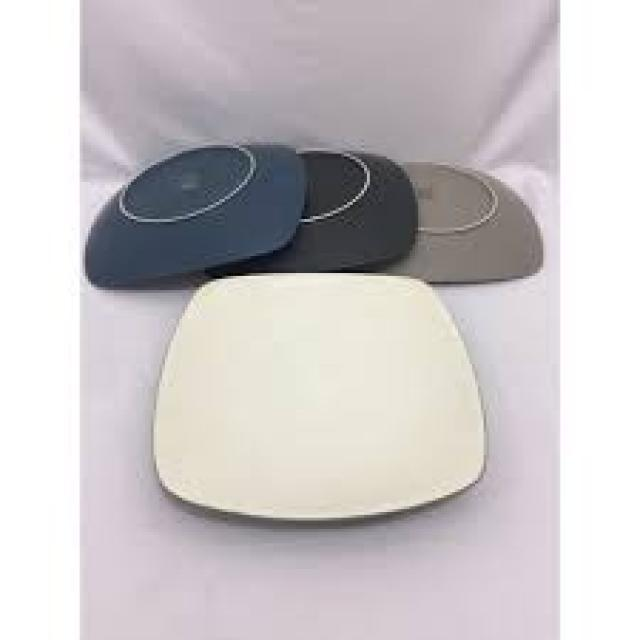Plate: (156, 269, 504, 535), (86, 140, 553, 272)
